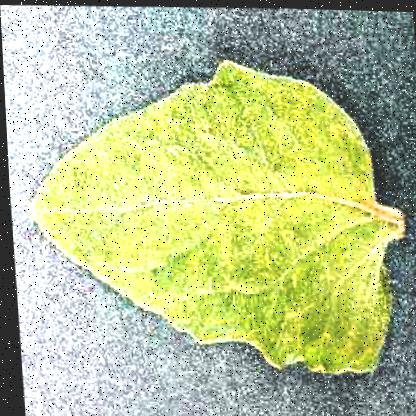Healthy: (18, 52, 410, 381)
